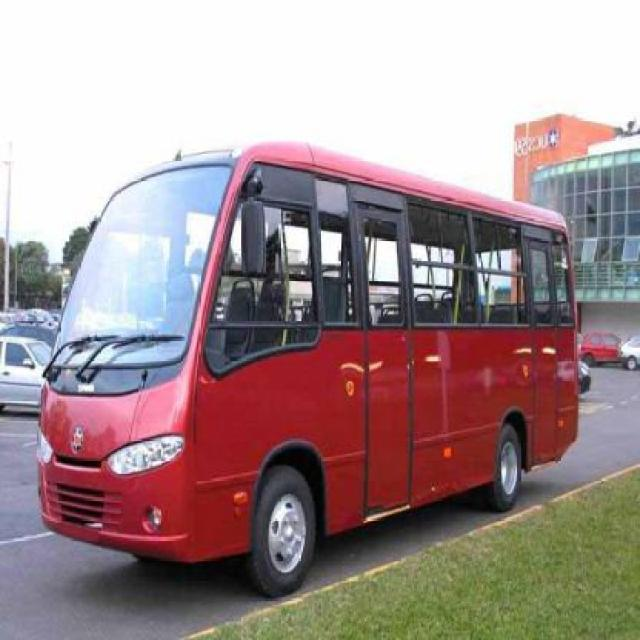bus: (38, 144, 576, 595)
